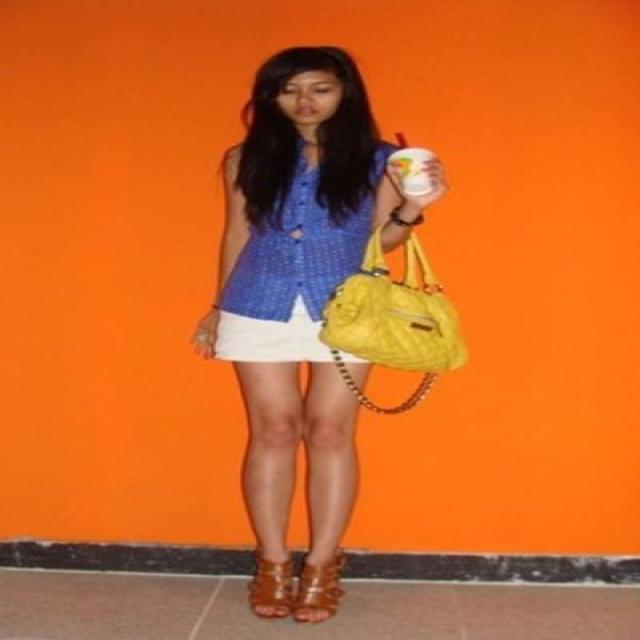bag: (314, 243, 466, 367)
shirt: (219, 142, 402, 319)
shoe: (246, 550, 344, 622)
skirt: (216, 296, 363, 362)
